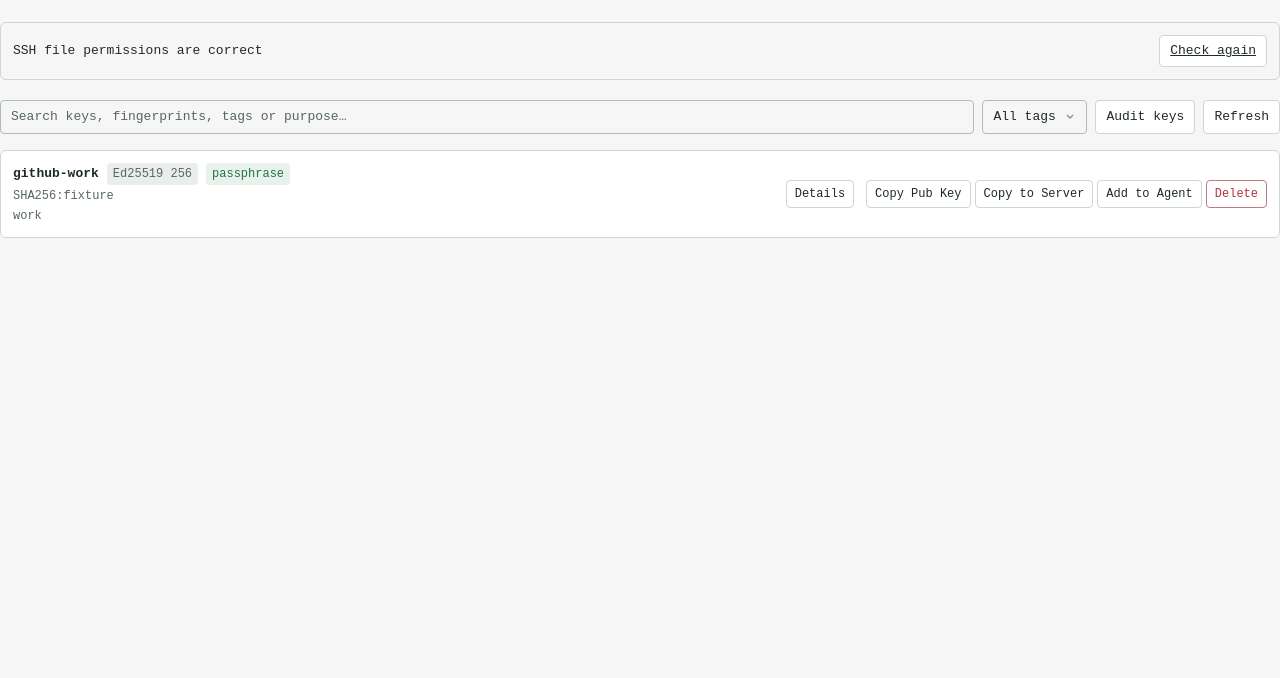
key details, annotations and audit › runs audit explicitly, shows partial coverage, filters findings and opens details
Click the button "Audit keys" at (1145, 117), box [1095,100,1195,134]
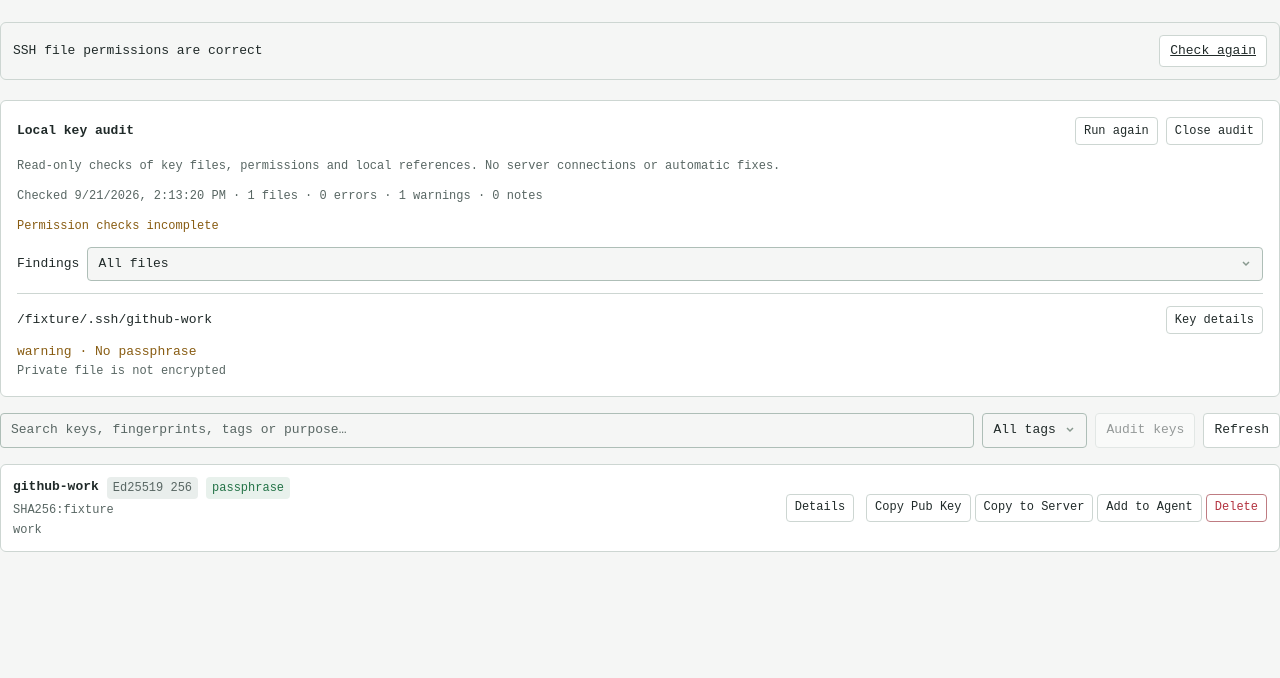
Expected: the text "warning · No passphrase" is shown, [17,344,196,359]
Expected: the text "Permission checks incomplete" is shown, [17,219,219,233]
Select "Errors" in the dropdown labelled "Findings" at (675, 264), box [87,247,1263,281]
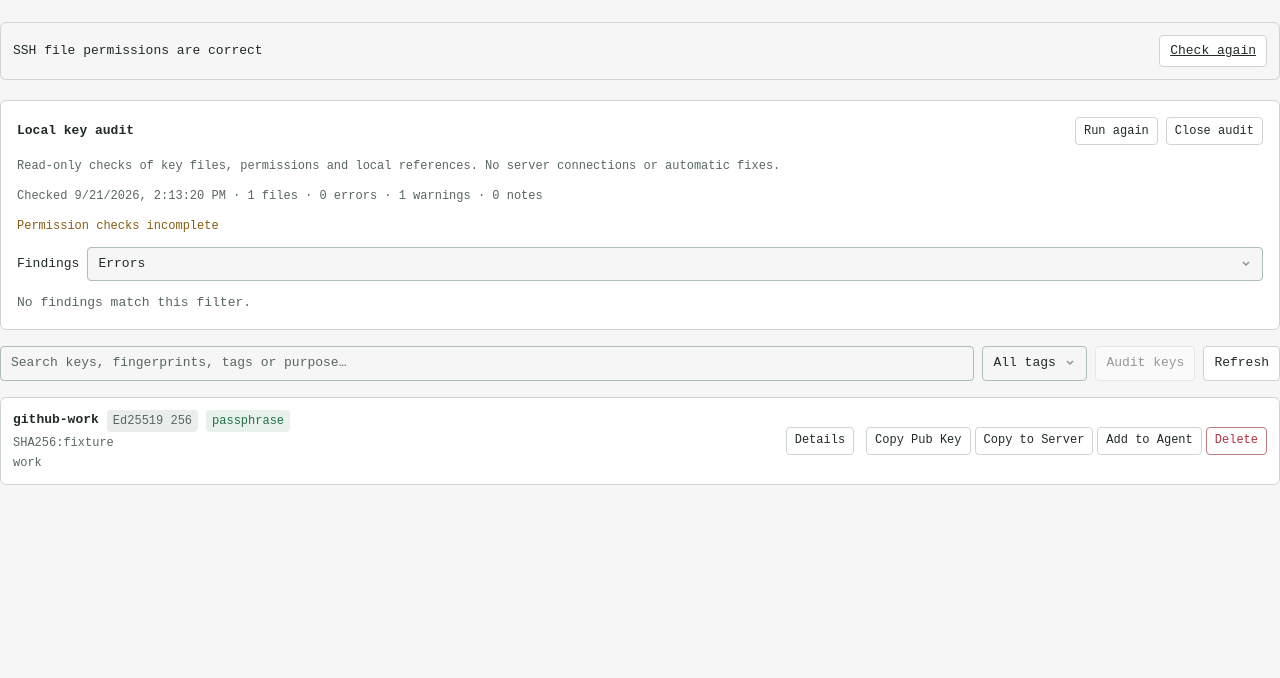
Expected: the text "No findings match this filter." is shown, [17,295,251,310]
Select "All files" in the dropdown labelled "Findings" at (675, 264), box [87,247,1263,281]
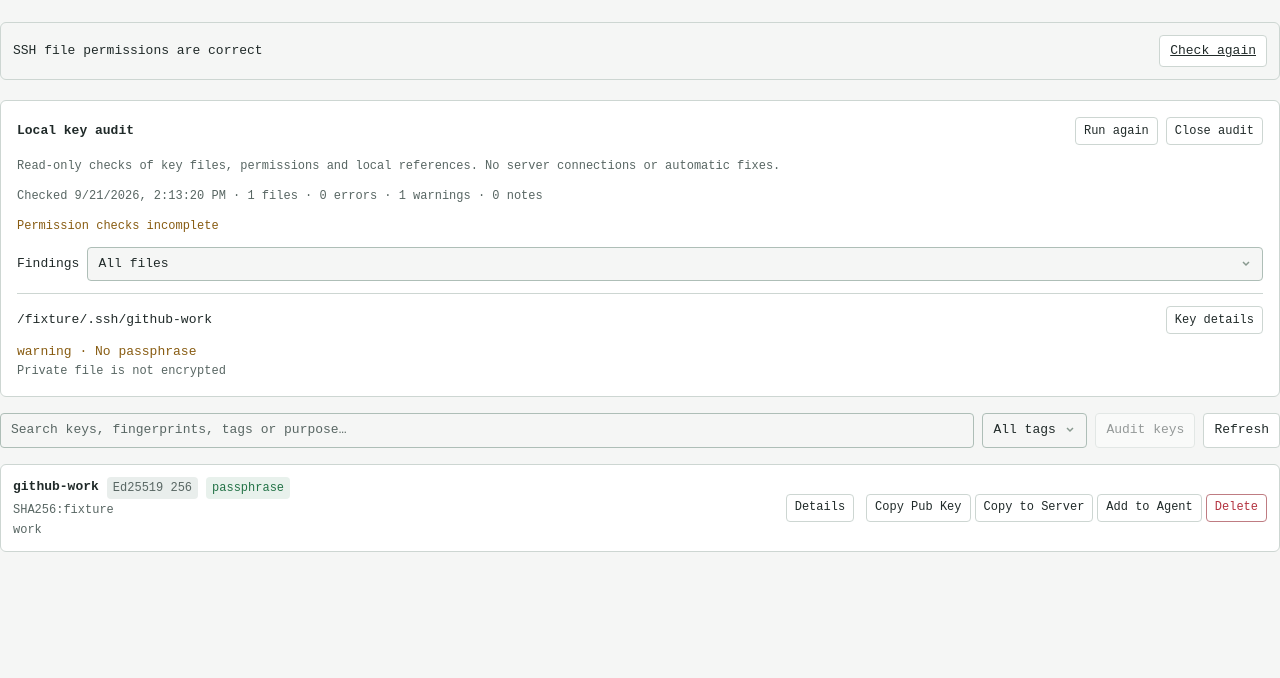
Click the button "Key details" at (1214, 320), box [1166,306,1263,334]
(page scrolled)
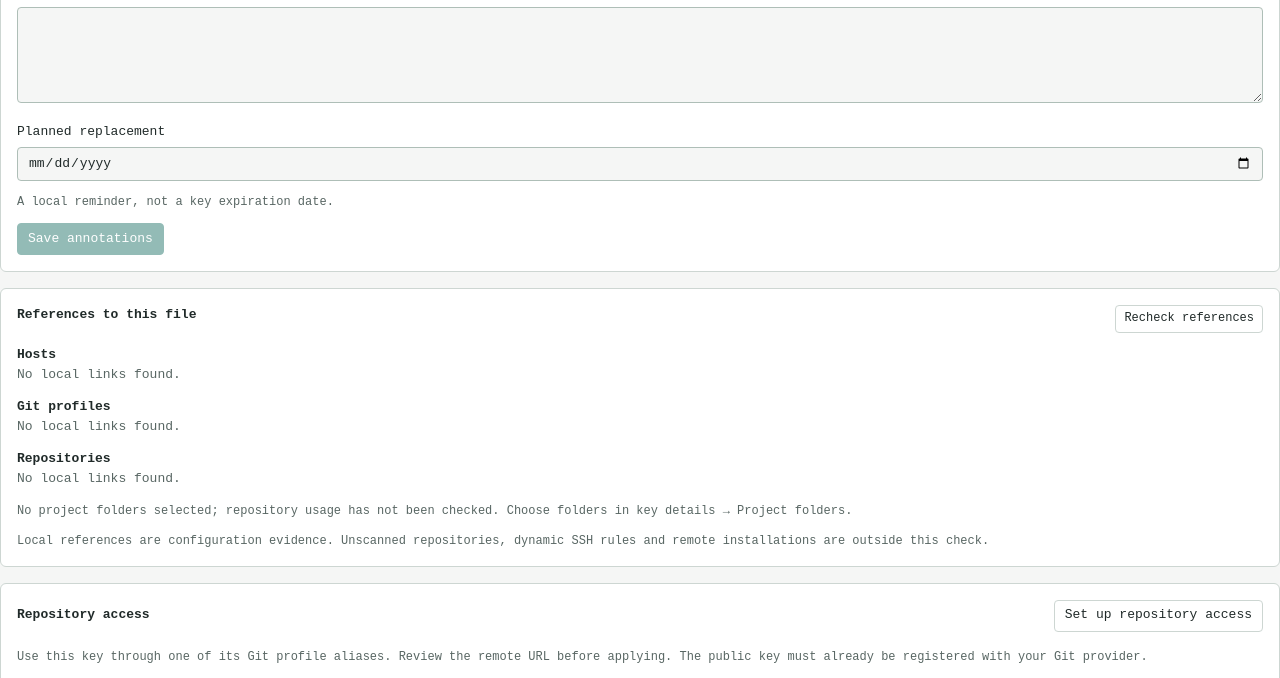
Expected: the heading "References to this file" is shown, [17,307,196,322]
